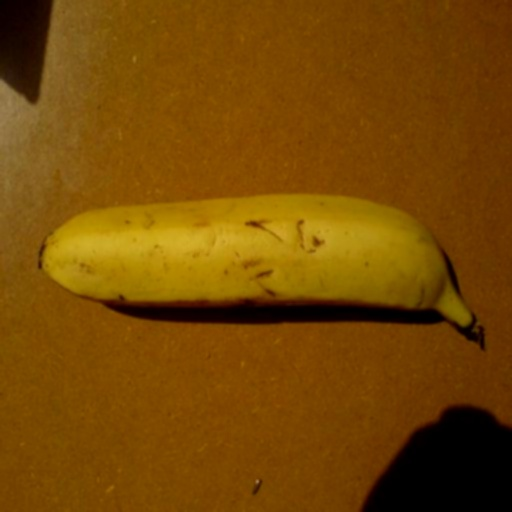fruit: (13, 131, 89, 425)
